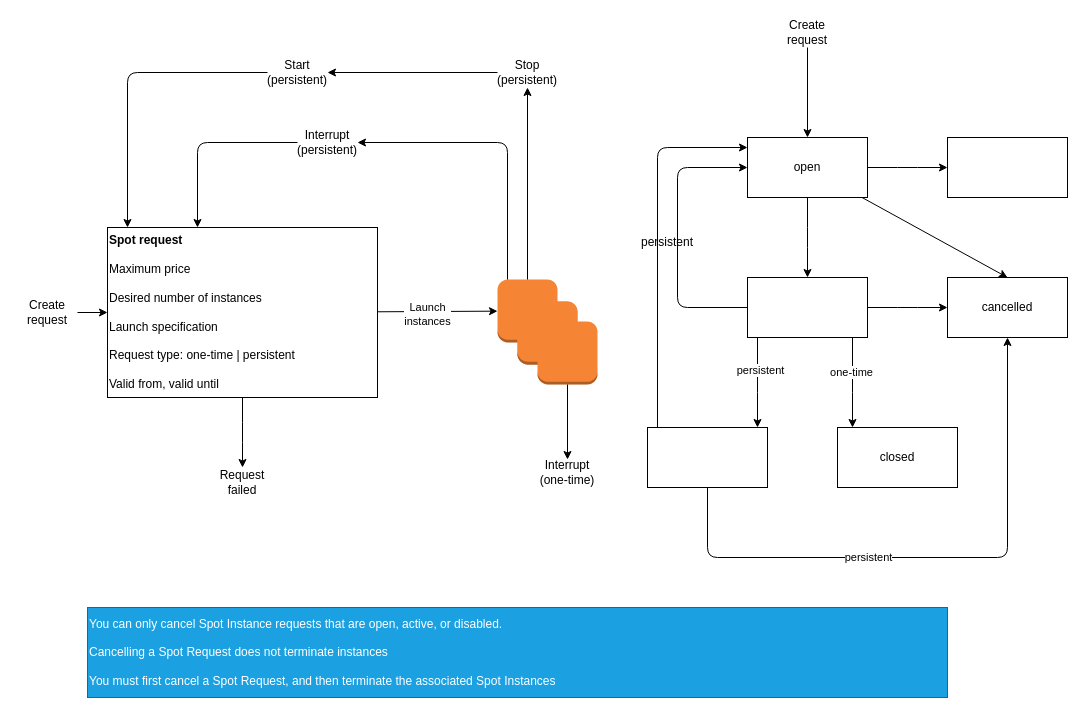
Some shapes in this 1085 by 715 pixel diagram are drawn without their labels. Here are the shapes that lost their labels. From the top down, the centre of each, then its label:
At point (1007, 167): "failed".
At point (807, 307): "active".
At point (707, 457): "disabled".
